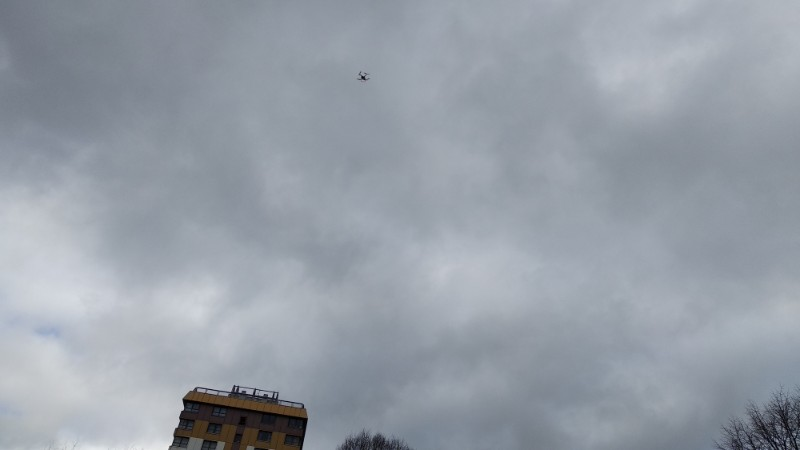drone: (357, 71, 370, 82)
